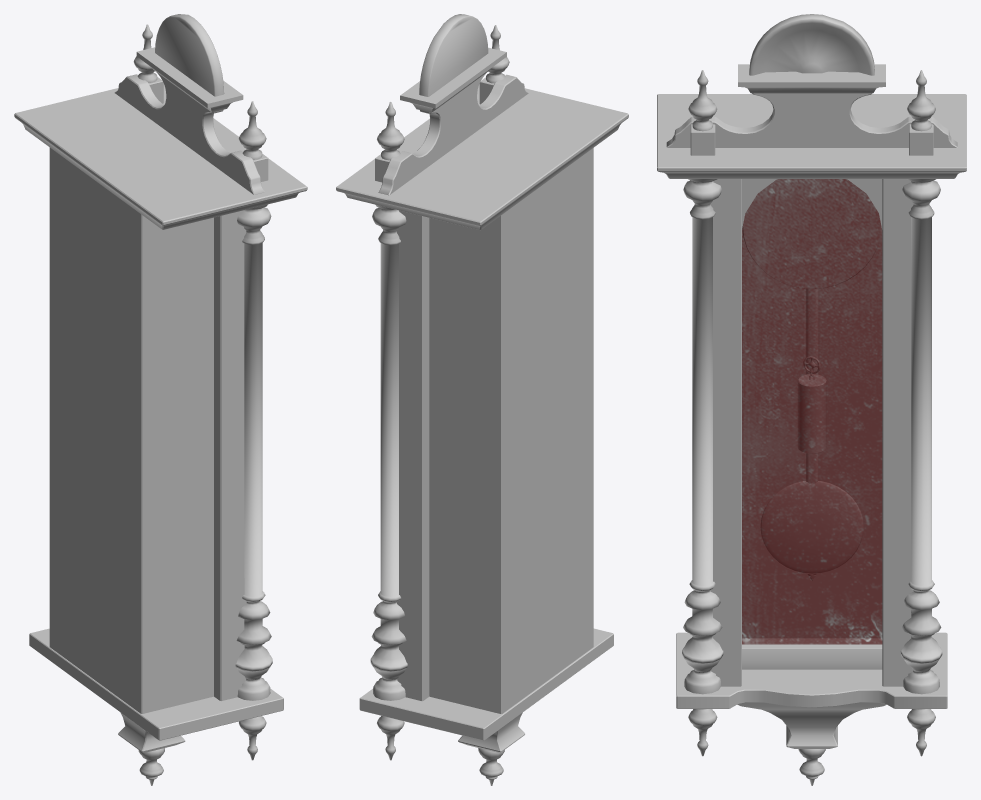
The model's file is SM_RegulatorClockB.FBX.
The picture shows the model from 3 angles, left to right: view 1: azimuth 30°, elevation 25°; view 2: azimuth 150°, elevation 25°; view 3: azimuth 270°, elevation 25°; orthographic projection. The views are drawn at different scales.
Parts seen in each view (by area): view 1: SM_RegulatorClock_LOD0; view 2: SM_RegulatorClock_LOD0; view 3: SM_RegulatorClock_LOD0.
Part boxes in pixels (x1,y1,x2,y2): SM_RegulatorClock_LOD0: (14,14,307,785); SM_RegulatorClock_LOD0: (336,14,628,785); SM_RegulatorClock_LOD0: (657,14,966,785).
Size of what is drawn, in the model's own units: 21.26 by 106 by 37.76.
